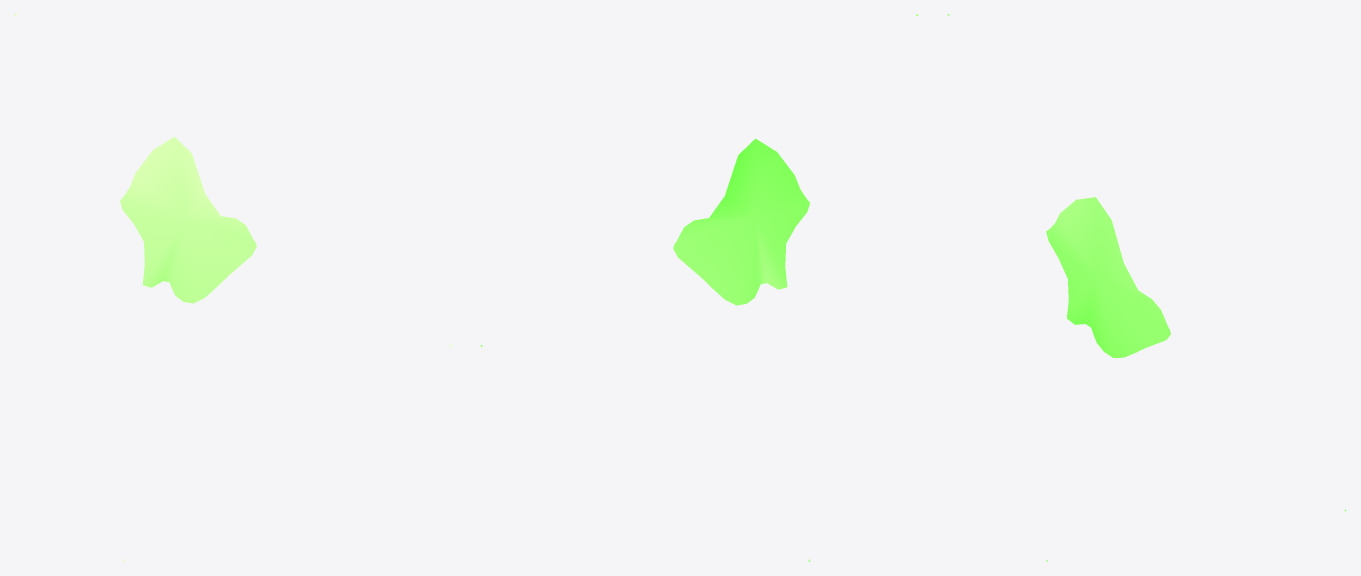
Rendered from Betterblob.glb.
3 views of the same model, side by side, from view 1: azimuth 30°, elevation 25°; view 2: azimuth 150°, elevation 25°; view 3: azimuth 330°, elevation 25° (orthographic). The views are drawn at different scales.
Visible parts, largest first — view 1: Cube.001; view 2: Cube.001; view 3: Cube.001.
Boxes of the visible parts, x1,y1,x2,y2 form: Cube.001: [14, 14, 451, 561]; Cube.001: [480, 14, 918, 561]; Cube.001: [947, 14, 1346, 561].
Bounding box in the file's own units: 4.95 × 6.21 × 0.0924.
